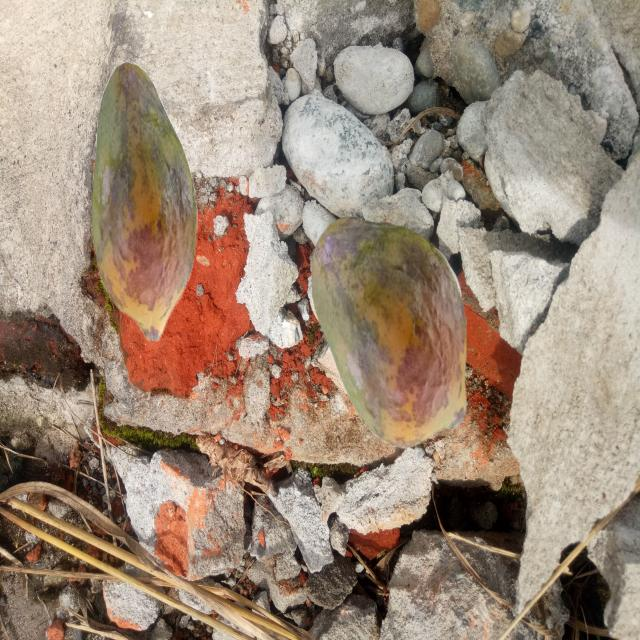Pepaya rippen: (309, 211, 472, 436), (86, 72, 201, 349)
